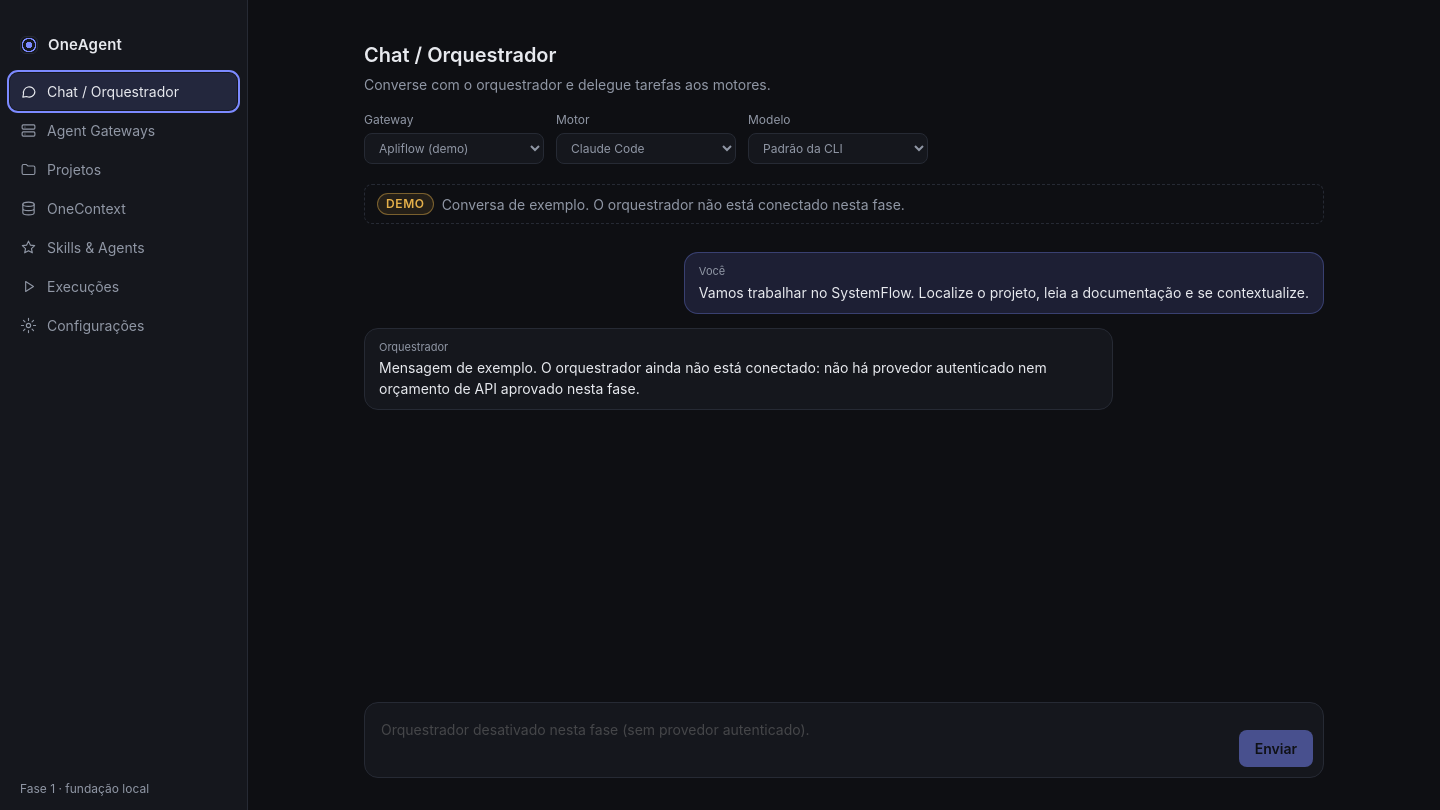
Test: OneAgent shell › navega por todas as seções
Earlier steps of the test are not shown.
Expected: the heading "Chat / Orquestrador" is shown, [364,43,556,67]
Click the button "Agent Gateways".
click(124, 130)  # box [10,112,237,148]
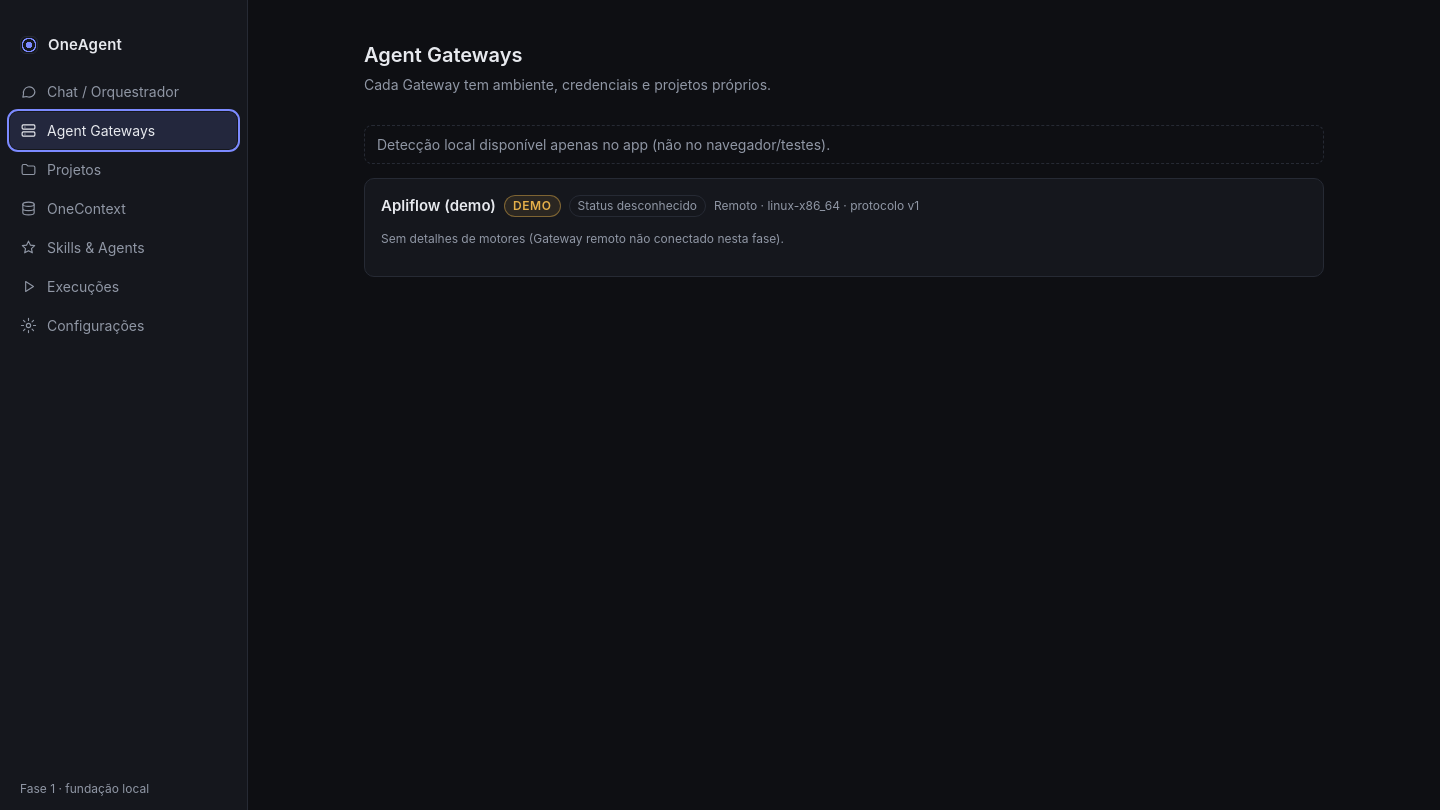
Expected: the heading "Agent Gateways" is shown, [364,43,522,67]
Click the button "Projetos".
click(124, 169)  # box [10,150,237,188]
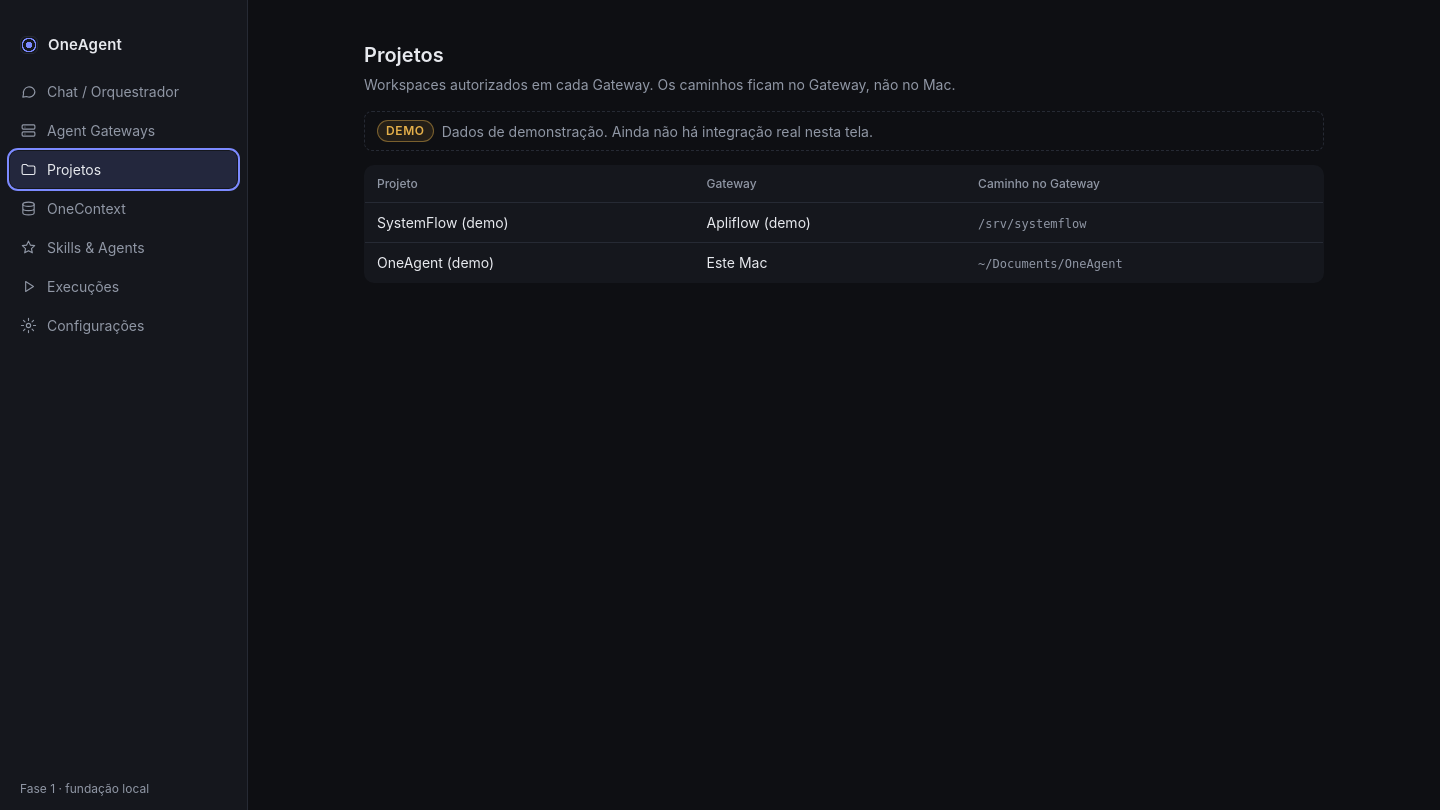
Expected: the heading "Projetos" is shown, [364,43,444,67]
Click the button "OneContext".
click(124, 208)  # box [10,190,237,226]
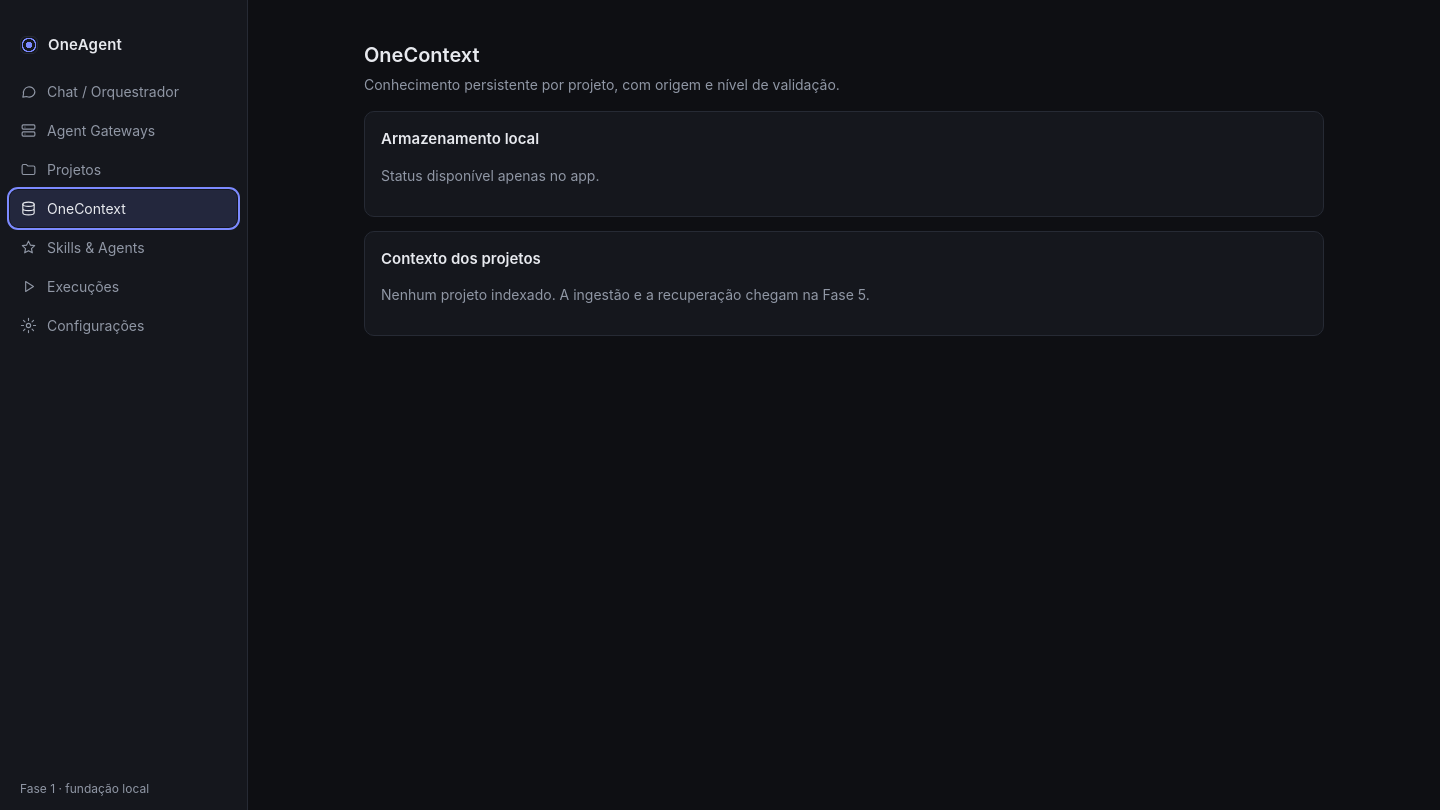
Expected: the heading "OneContext" is shown, [364,43,480,67]
Click the button "Skills & Agents".
click(124, 247)  # box [10,228,237,266]
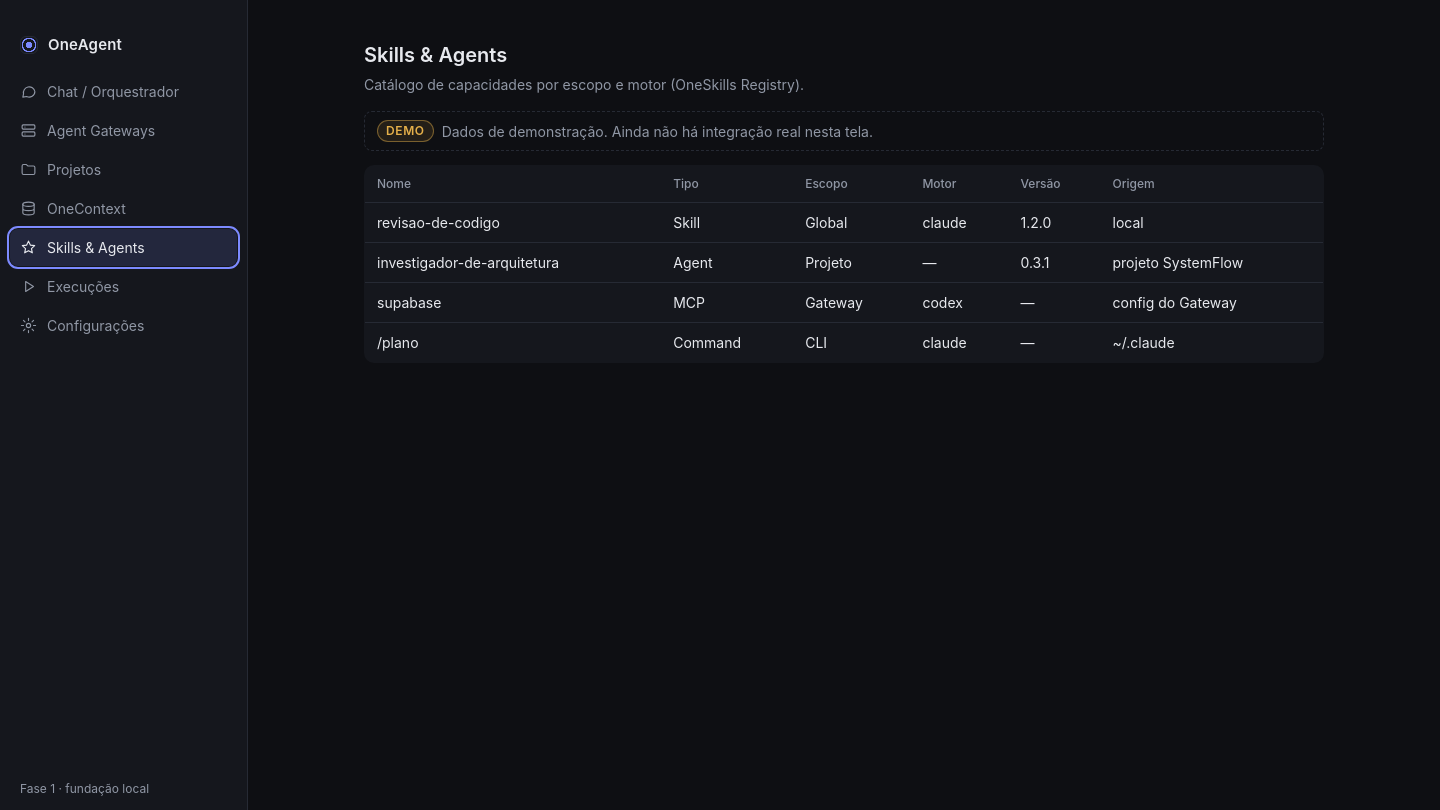
Expected: the heading "Skills & Agents" is shown, [364,43,507,67]
Click the button "Execuções".
click(124, 286)  # box [10,268,237,304]
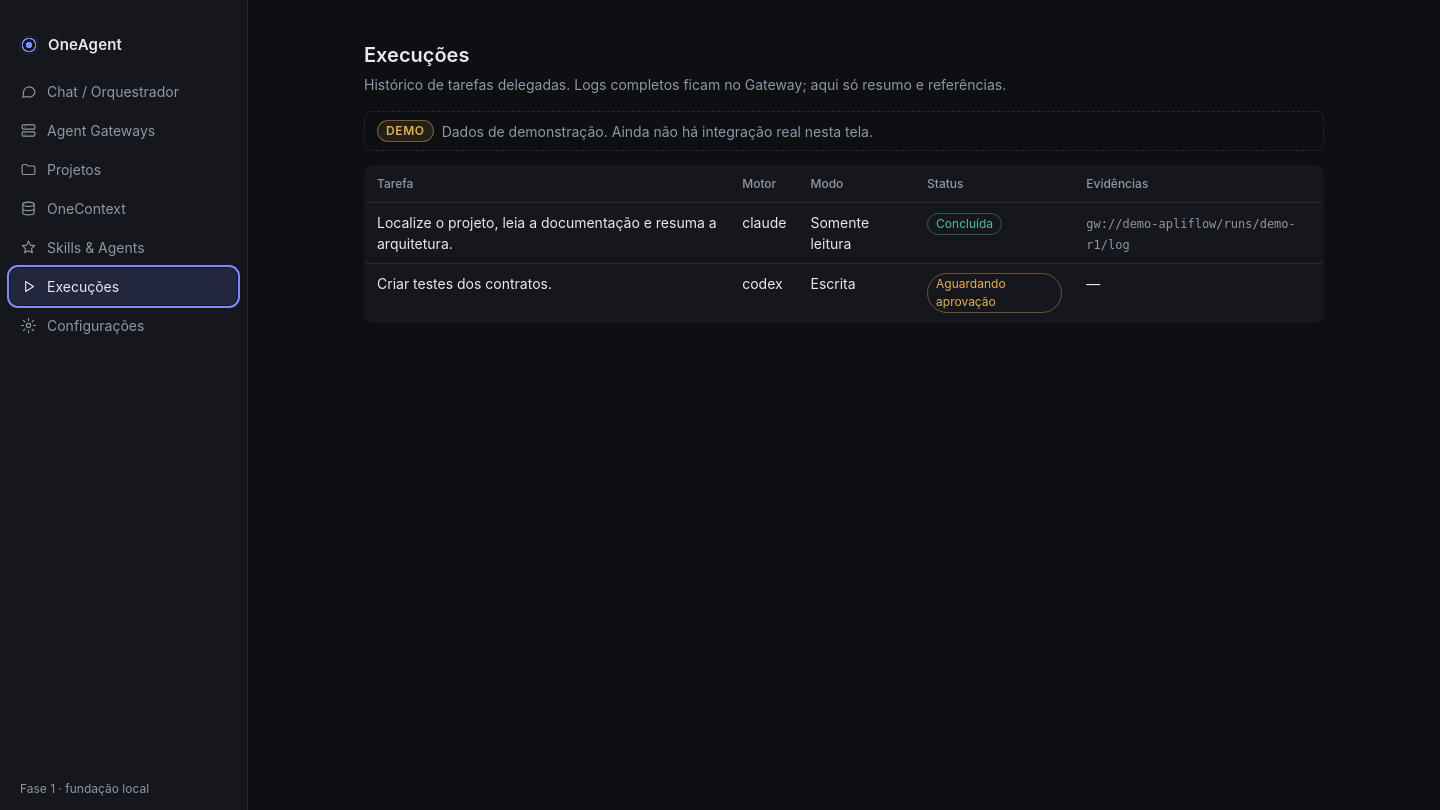
Expected: the heading "Execuções" is shown, [364,43,469,67]
Click the button "Configurações".
click(124, 325)  # box [10,306,237,344]
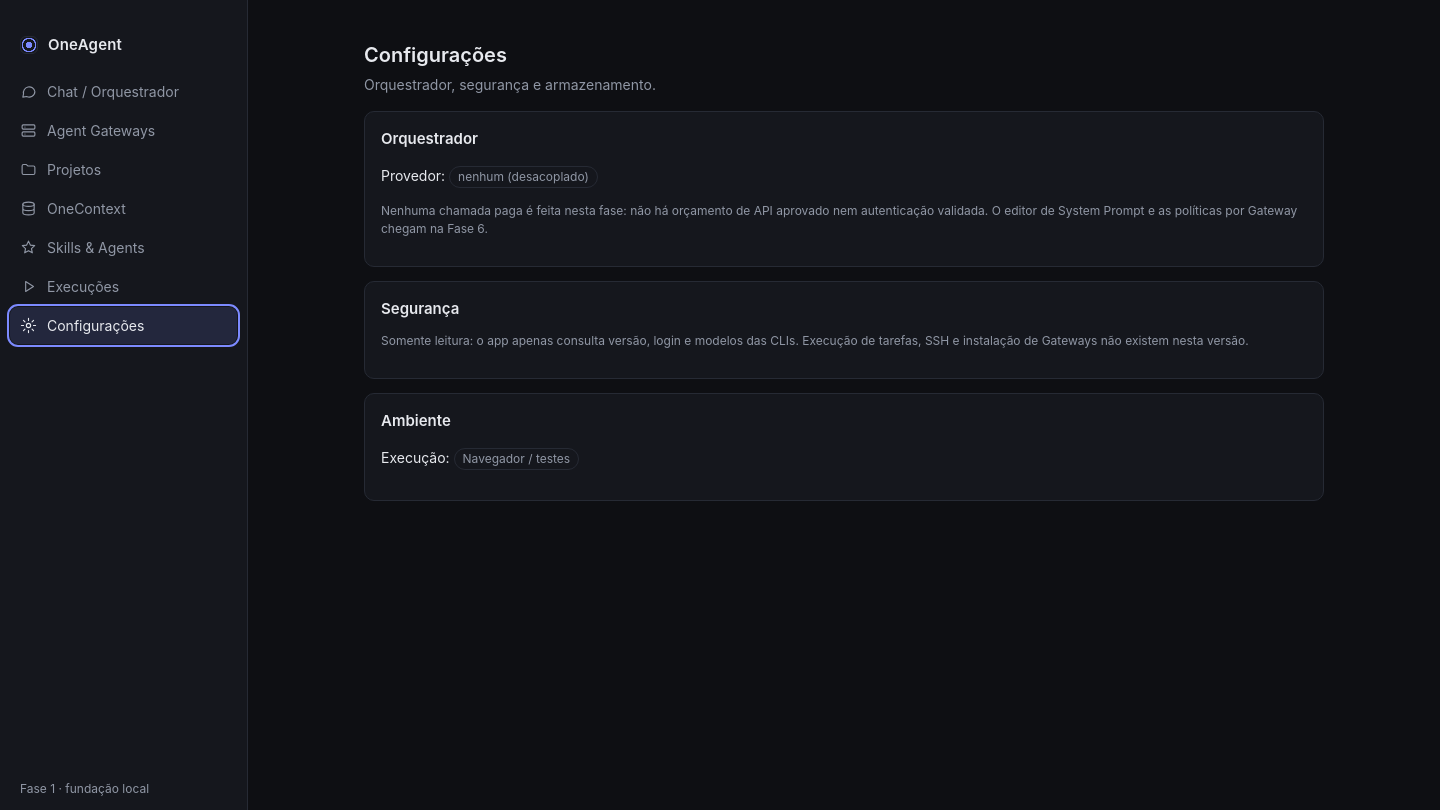
Expected: the heading "Configurações" is shown, [364,43,507,67]
